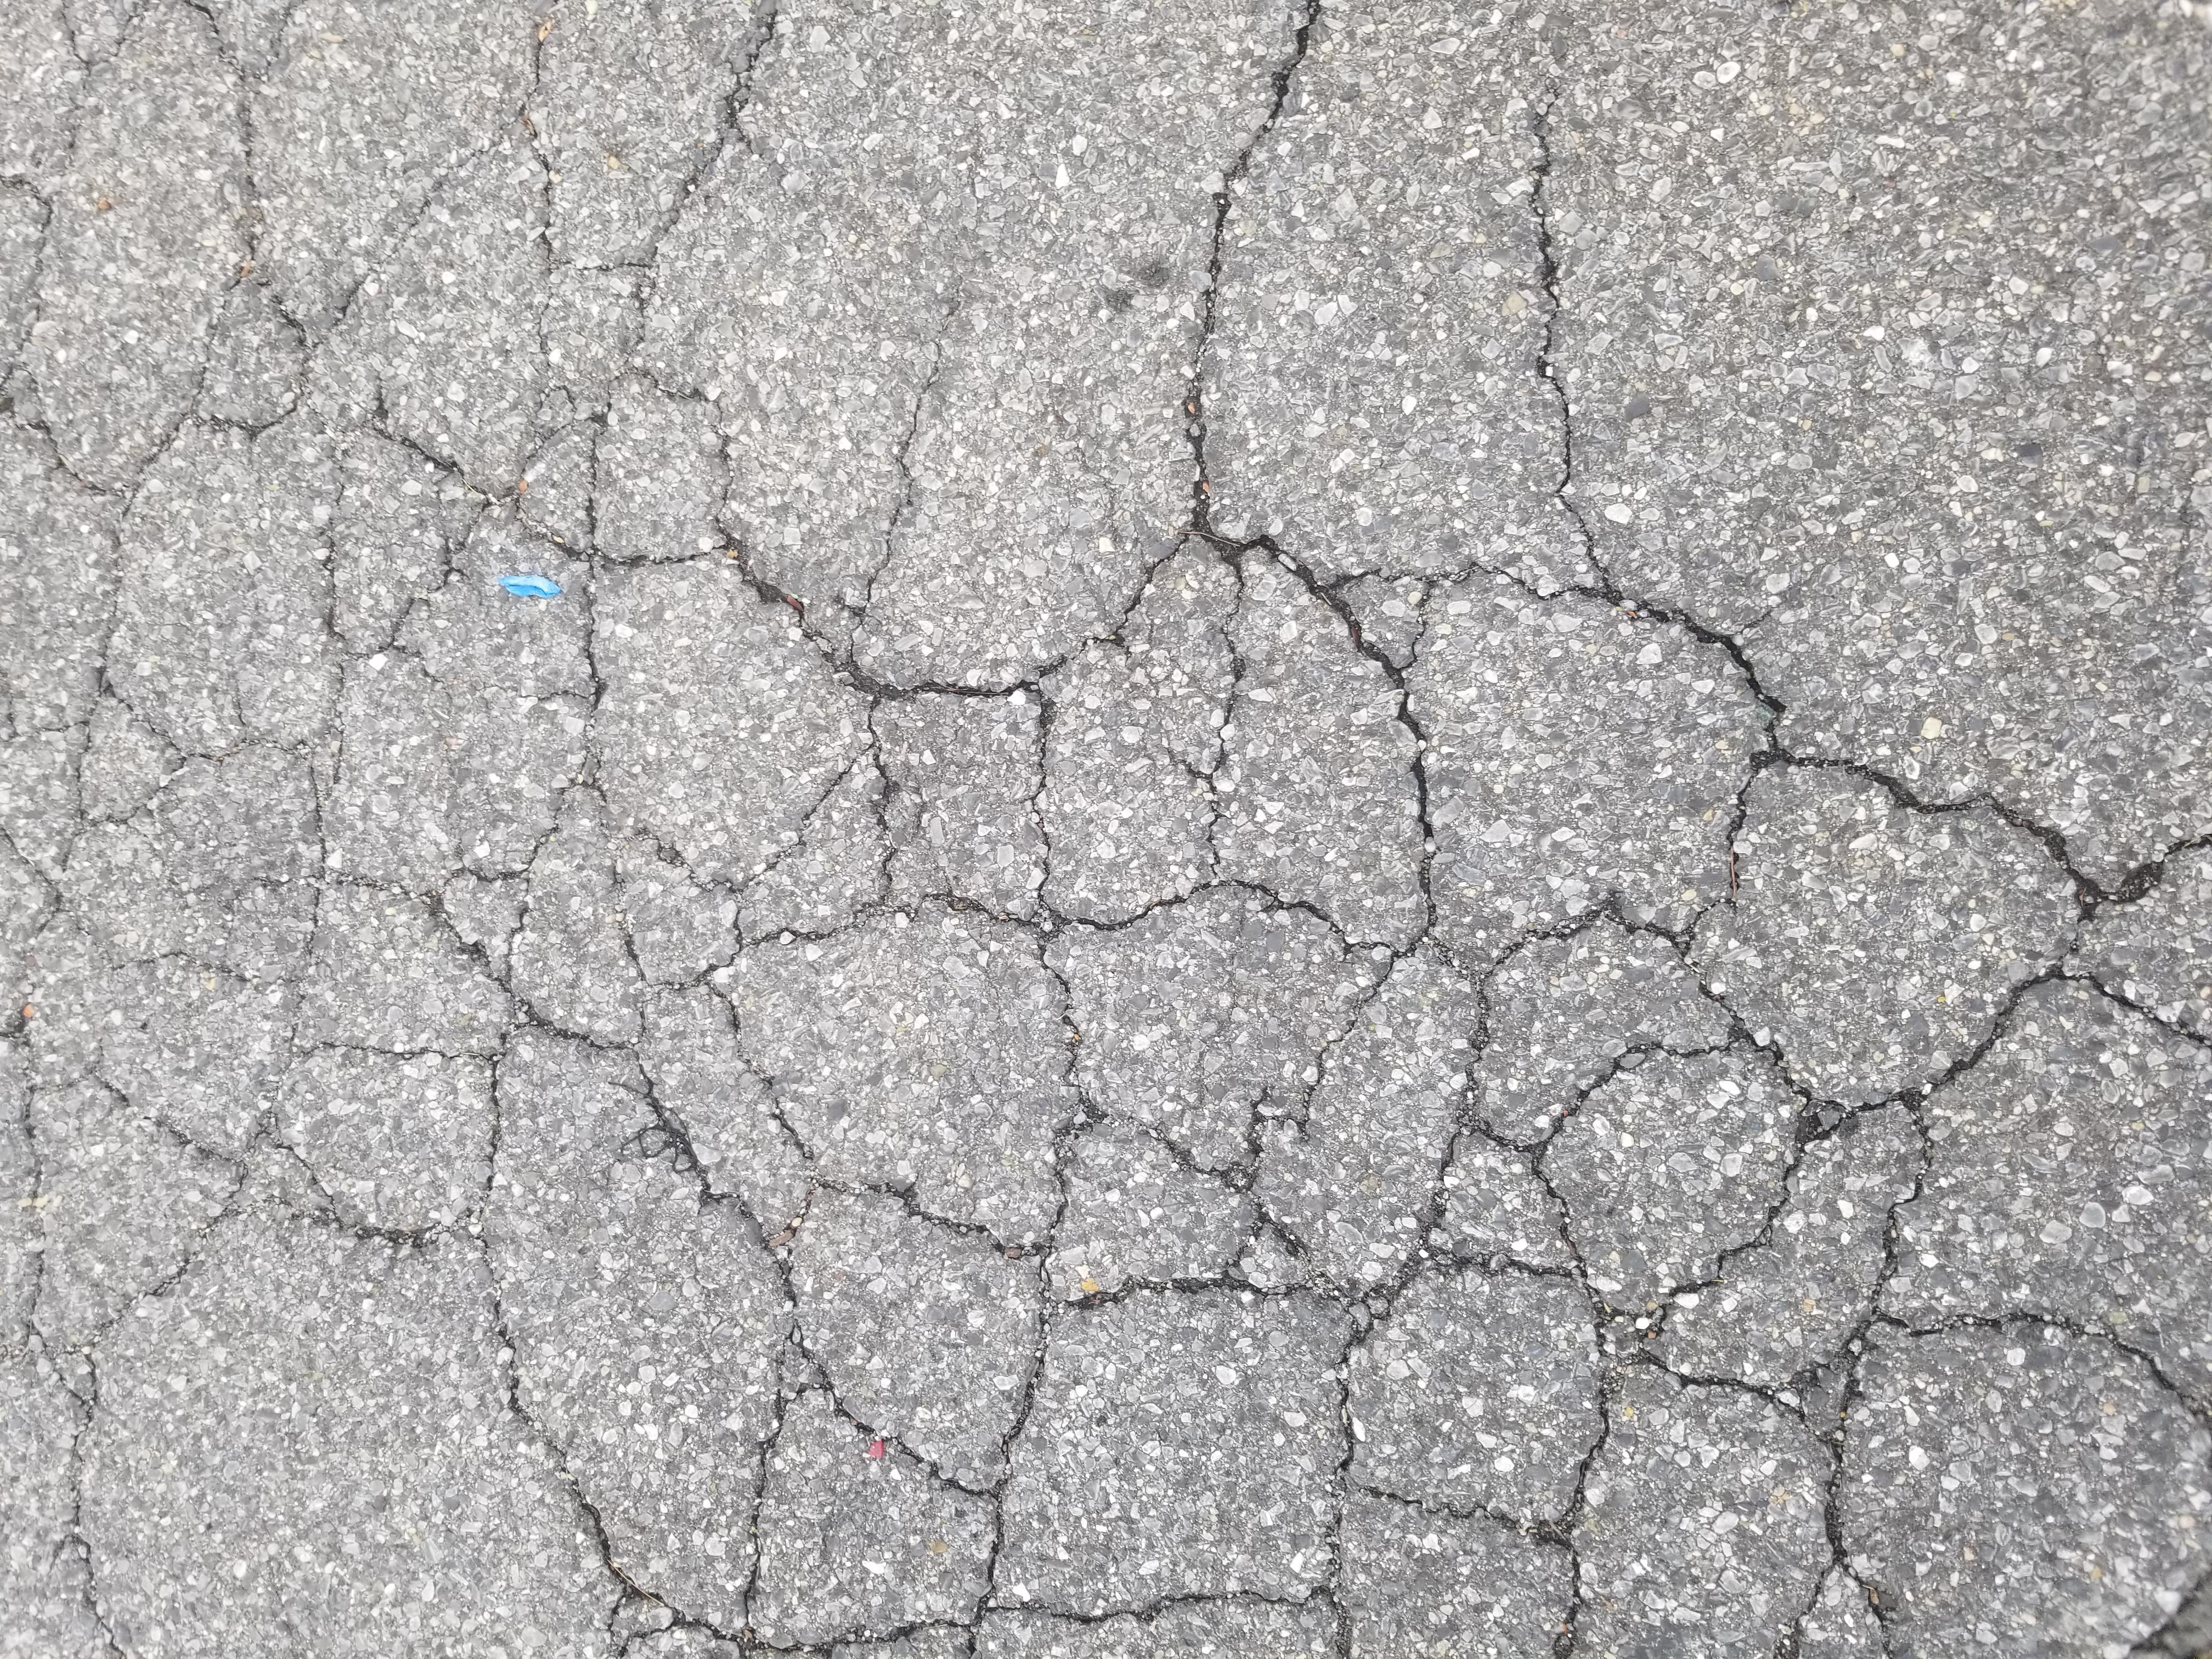alligator-crack: (10, 16, 2181, 1659)
